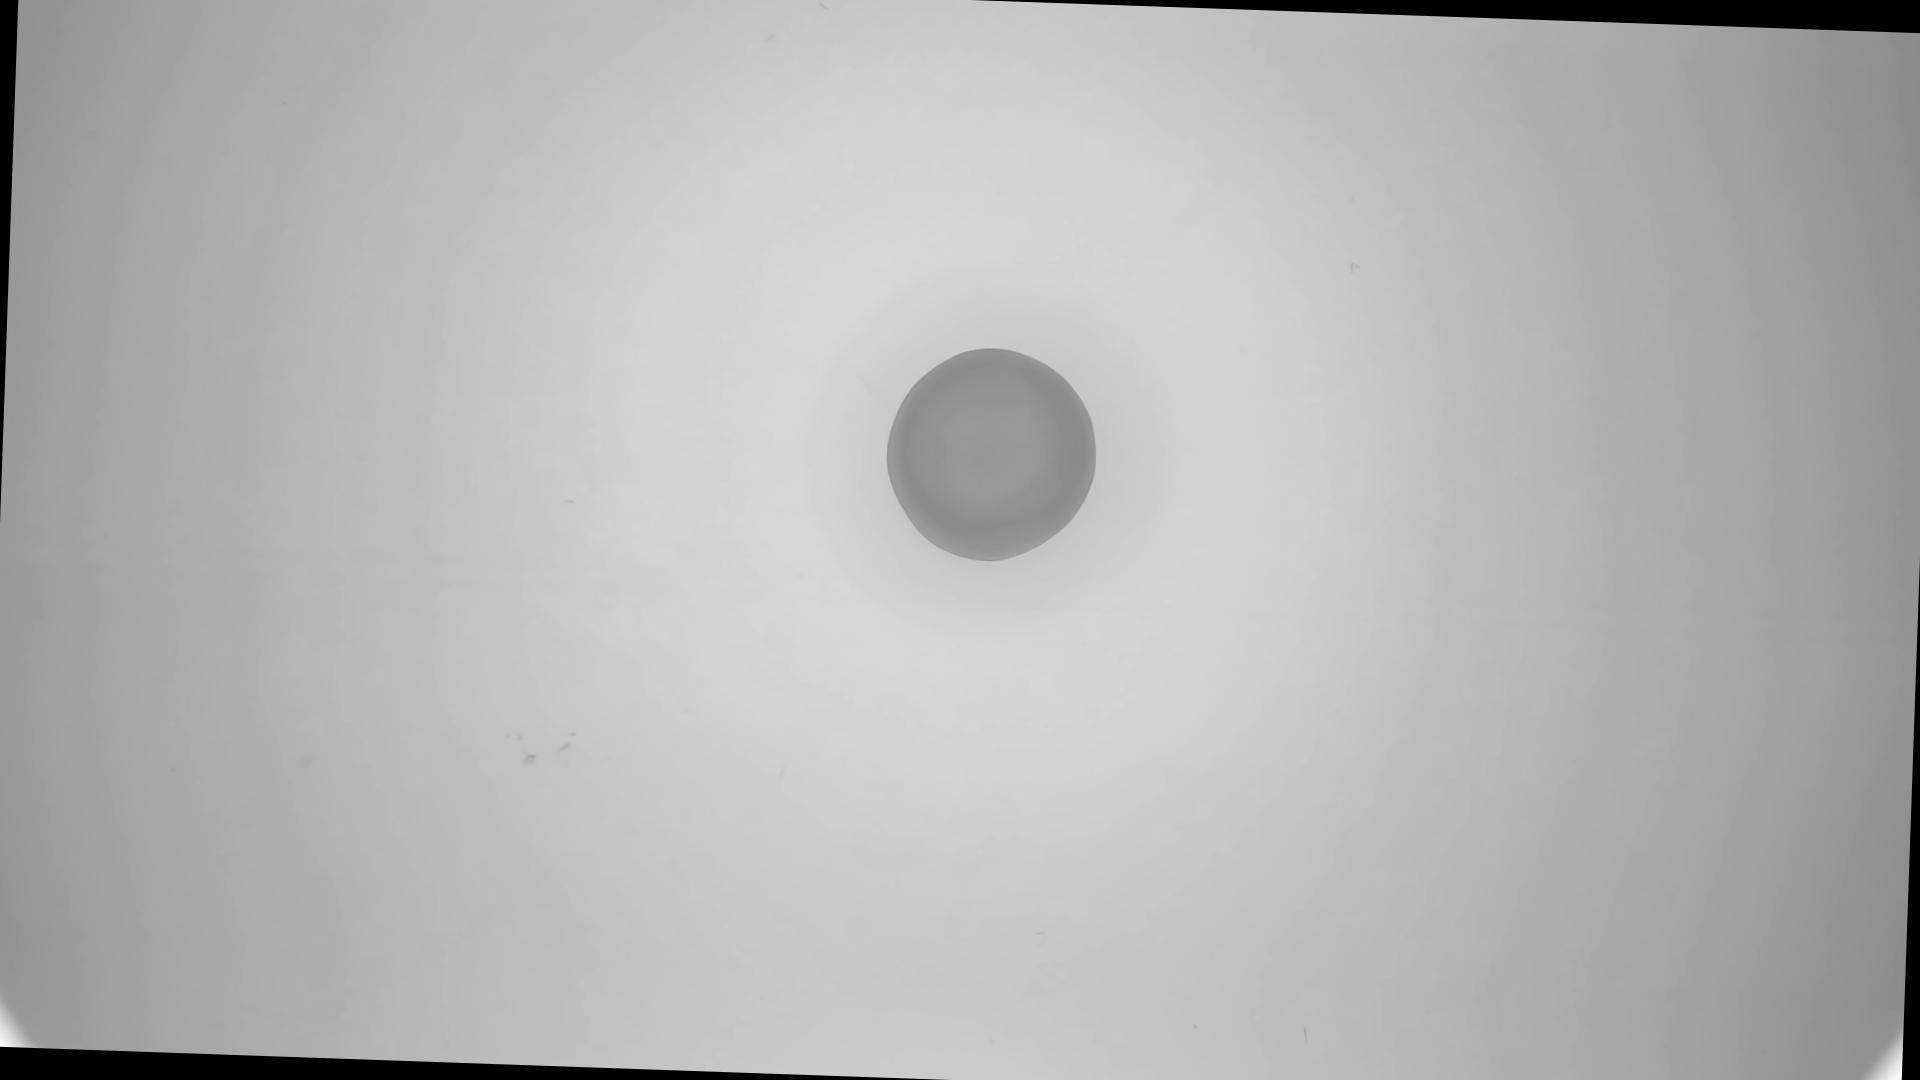normal: (882, 342, 1105, 570)
